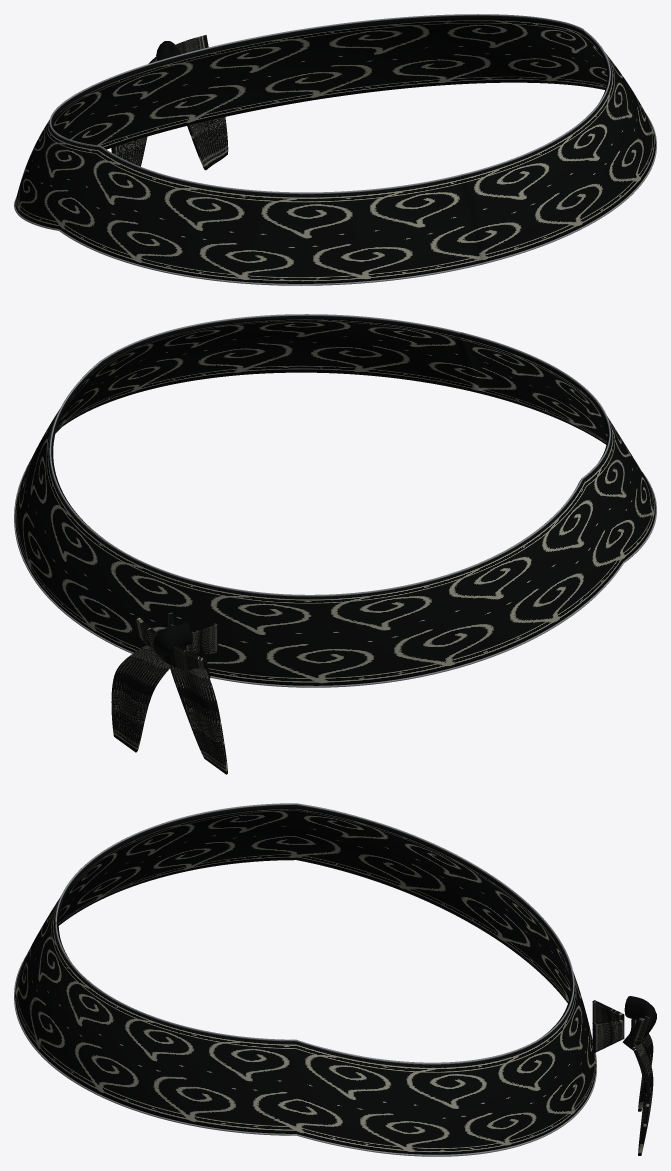
The model's file is Masculine-middle-part-headband251-headgear.glb.
3 views of the same model, one above another, from view 1: azimuth 30°, elevation 25°; view 2: azimuth 150°, elevation 25°; view 3: azimuth 270°, elevation 25° (orthographic).
Parts seen in each view (by area): view 1: 226 headgear / Headwear / bandana235.001, 226 headgear / Headwear / bandana hem235.001; view 2: 226 headgear / Headwear / bandana235.001, 226 headgear / Headwear / bandana hem235.001; view 3: 226 headgear / Headwear / bandana235.001, 226 headgear / Headwear / bandana hem235.001.
Boxes of the visible parts, <box> form: 226 headgear / Headwear / bandana235.001: <box>15,15,655,283</box>; 226 headgear / Headwear / bandana hem235.001: <box>14,14,656,285</box>; 226 headgear / Headwear / bandana235.001: <box>15,316,655,774</box>; 226 headgear / Headwear / bandana hem235.001: <box>14,314,656,687</box>; 226 headgear / Headwear / bandana235.001: <box>15,805,656,1155</box>; 226 headgear / Headwear / bandana hem235.001: <box>14,803,596,1156</box>.
Bounding box in the file's own units: 1 × 0.3655 × 0.9783.
Materials: 2 (1 with a texture image).
